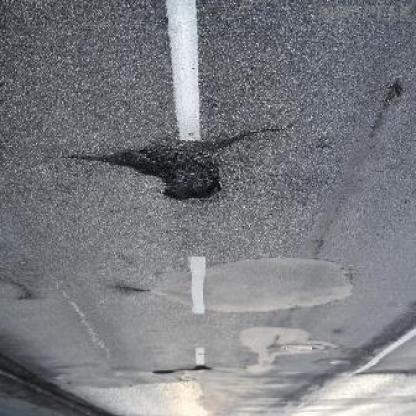pothole: (111, 141, 228, 205), (191, 366, 212, 377), (152, 371, 176, 378)
